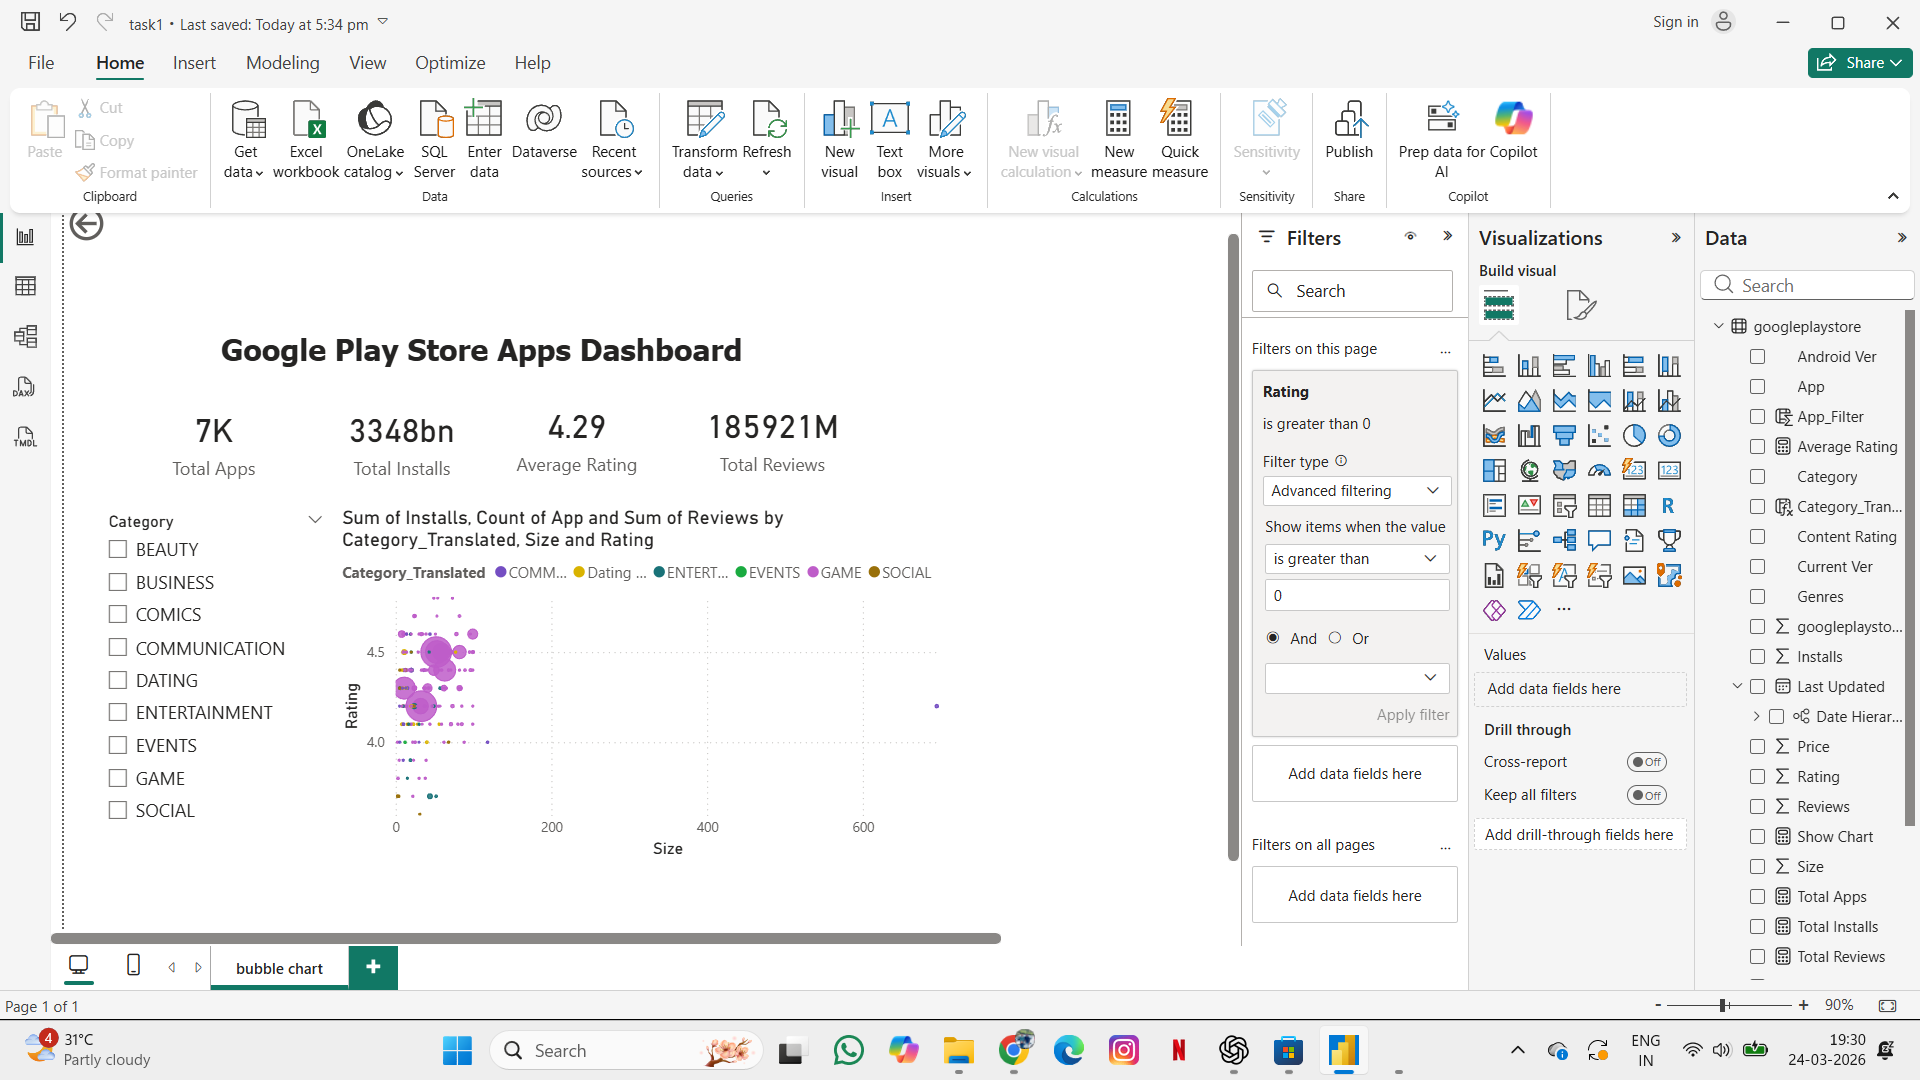

What the dashboard file says about the page in this screenshot:
{"tool":"powerbi","page":{"name":"bubble chart","canvas":[1280,720],"ordinal":0},"visuals":[{"type":"scatterChart","fields":{"X":["googleplaystore.Size"],"Y":["googleplaystore.Rating"],"Size":["Sum(googleplaystore.Installs)"],"Series":["googleplaystore.Category_Translated"]},"box":[242.2,271.1,552.2,317.8],"z":0},{"type":"actionButton","box":[0,0,100,40],"z":1000},{"type":"slicer","fields":{"Values":["googleplaystore.Category"]},"box":[26.7,271.1,215.6,308.9],"z":2000},{"type":"card","fields":{"Values":["googleplaystore.Total Apps"]},"box":[24.4,164.4,217.8,97.8],"z":3000},{"type":"card","fields":{"Values":["googleplaystore.Total Installs"]},"box":[200,164.4,201.1,97.8],"z":4000},{"type":"card","fields":{"Values":["googleplaystore.Total Reviews"]},"box":[540,164.4,180,90],"z":6000},{"type":"textbox","box":[134.4,111.1,643.3,53.3],"z":7000},{"type":"card","fields":{"Values":["Avg(googleplaystore.Rating)"]},"box":[368.9,164.4,174.4,90],"z":7001}]}

Visuals, with their boxes on the page's 1280x720 design canvas (x1, y1, x2, y2). These are canvas units, not pixel positions in the 1920x1080 screenshot, which may show the page scaled, cropped or inside an application window:
scatterChart - googleplaystore.Size x googleplaystore.Rating: 242, 271, 794, 589
actionButton: 0, 0, 100, 40
slicer - googleplaystore.Category: 27, 271, 242, 580
card - googleplaystore.Total Apps: 24, 164, 242, 262
card - googleplaystore.Total Installs: 200, 164, 401, 262
card - googleplaystore.Total Reviews: 540, 164, 720, 254
textbox: 134, 111, 778, 164
card - Avg(googleplaystore.Rating): 369, 164, 543, 254
